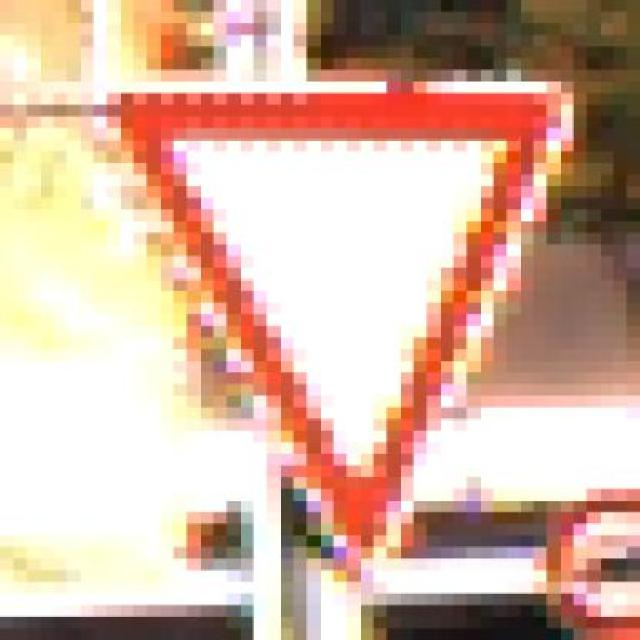Give Way: (106, 46, 614, 594)
